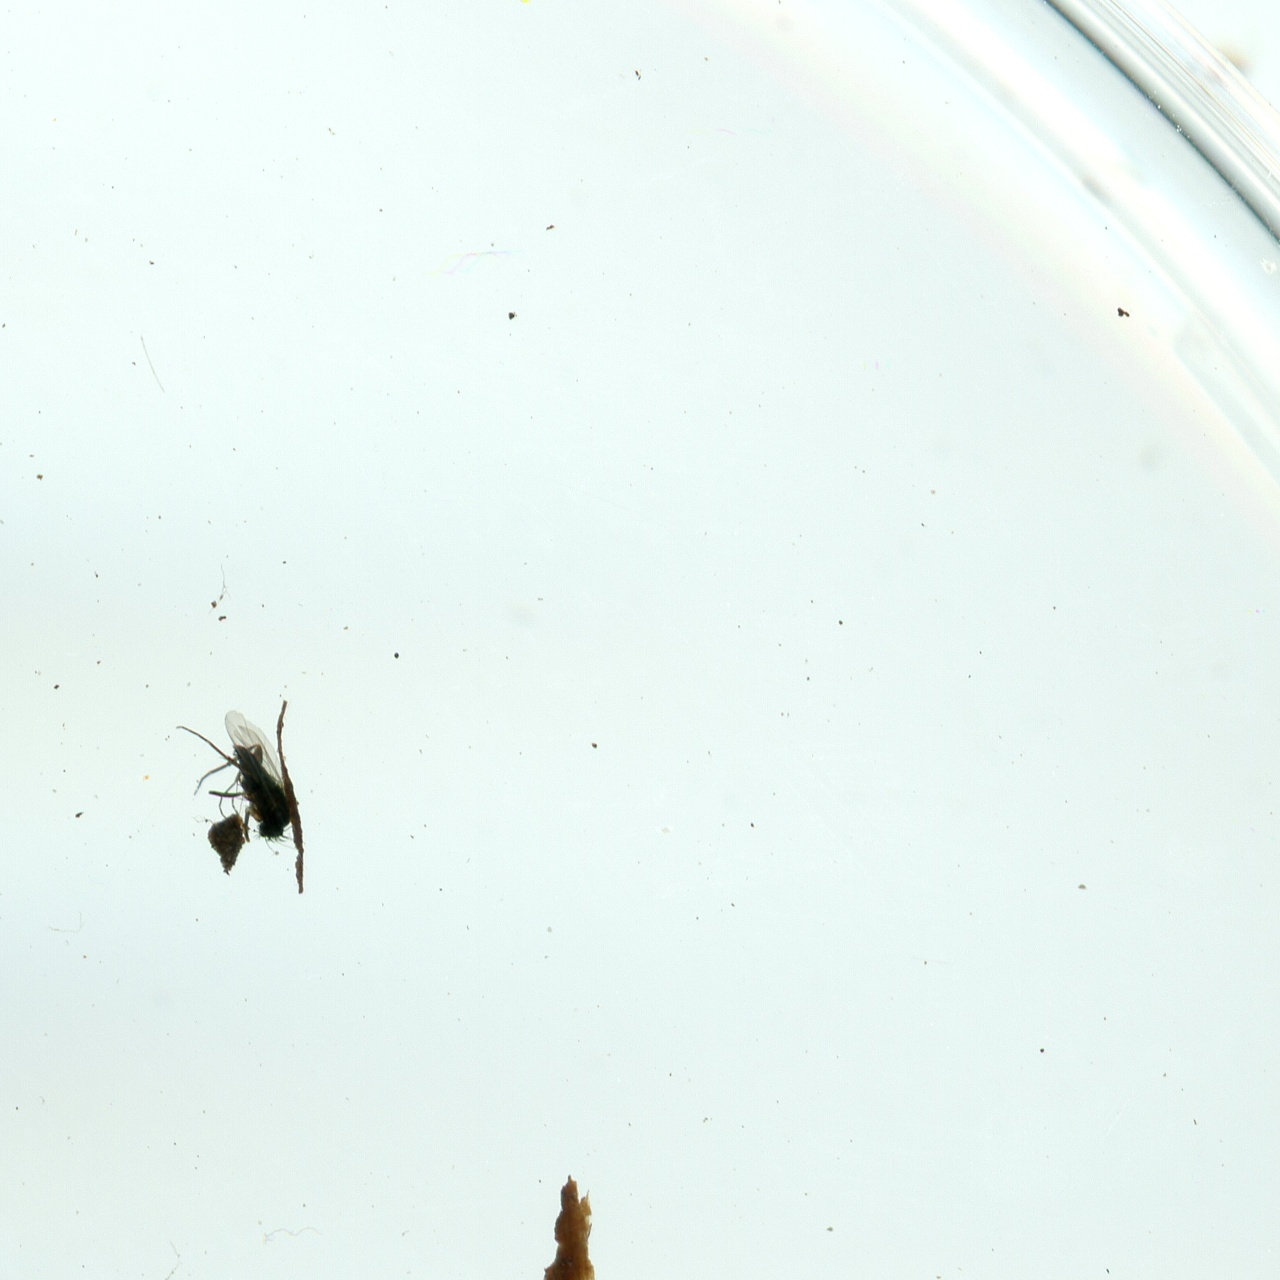arthropod: (163, 690, 319, 882)
